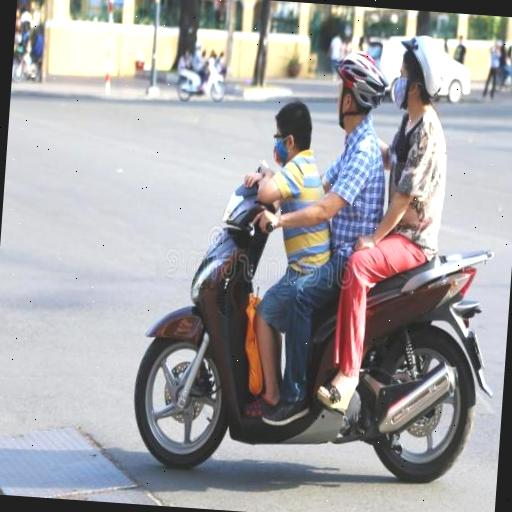helmet: (320, 42, 393, 142)
triple riding: (126, 23, 510, 488)
